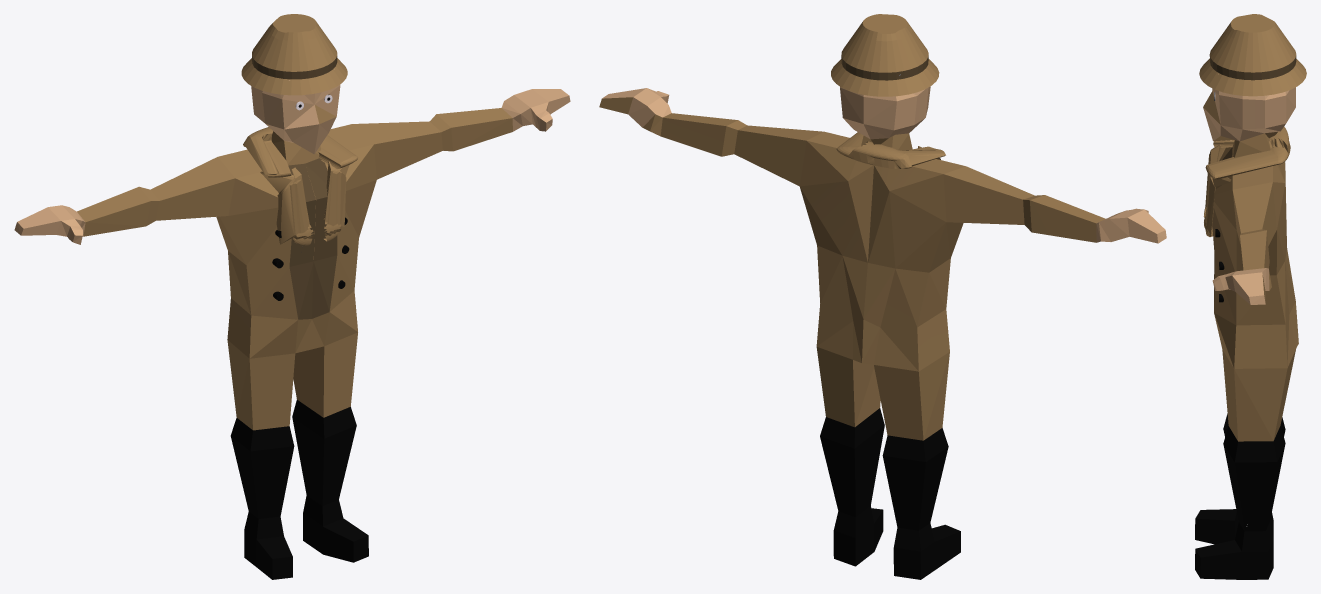
The model's file is character.obj.
3 renders of one model, left to right at view 1: azimuth 30°, elevation 25°; view 2: azimuth 150°, elevation 25°; view 3: azimuth 270°, elevation 25°, orthographic. The views are drawn at different scales.
Visible parts, largest first — view 1: Cube.001_Cube.001; view 2: Cube.001_Cube.001; view 3: Cube.001_Cube.001.
Part boxes in pixels (box(x1,y1,x2,y2)): Cube.001_Cube.001: box(14, 14, 570, 579); Cube.001_Cube.001: box(599, 14, 1166, 579); Cube.001_Cube.001: box(1195, 14, 1306, 579).
Bounding box in the file's own units: 15.45 × 14.23 × 2.69.
